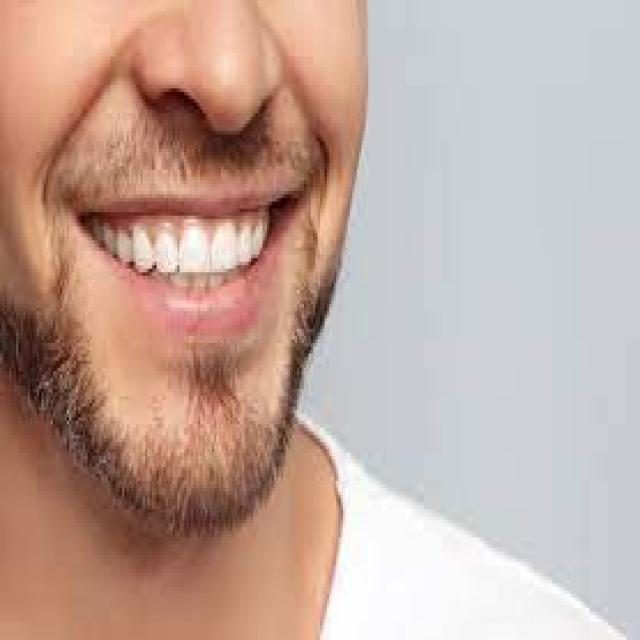tooth: (182, 223, 209, 276), (212, 219, 232, 272), (154, 222, 175, 268), (131, 226, 152, 272), (235, 219, 253, 265), (118, 226, 132, 262), (101, 219, 118, 248), (258, 209, 265, 251), (90, 220, 96, 233)
